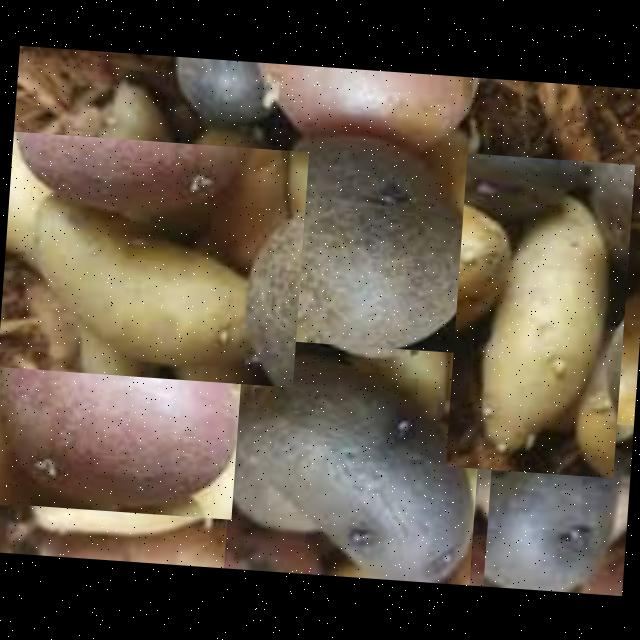Defected potato: (222, 336, 484, 585), (237, 114, 482, 366), (0, 288, 244, 518), (482, 414, 634, 596)
Sprouted potato: (0, 129, 308, 386), (444, 152, 634, 477)
